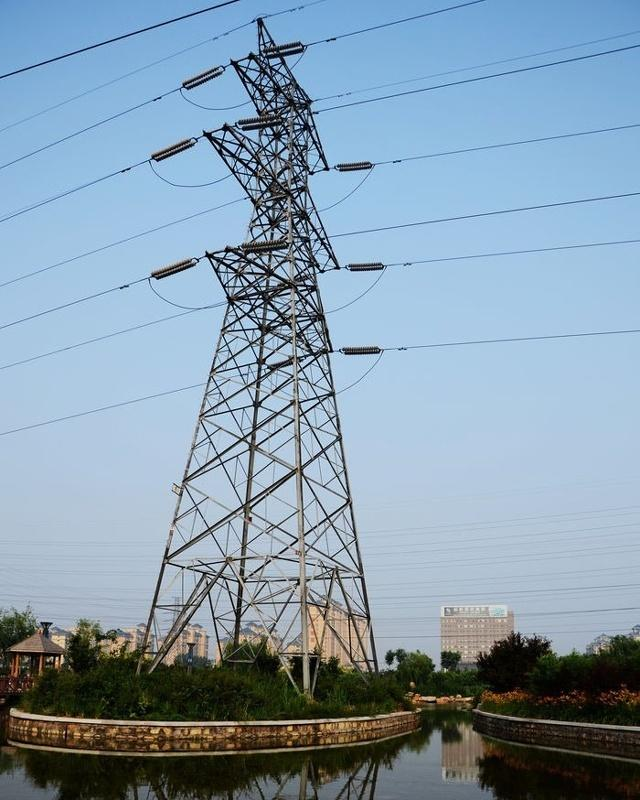power_tower: (134, 17, 383, 672)
